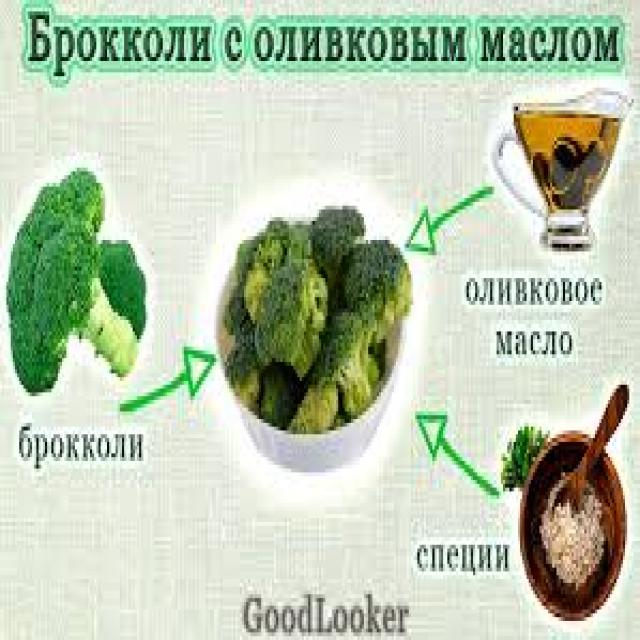broccoli: (220, 219, 422, 420), (3, 167, 160, 424)
